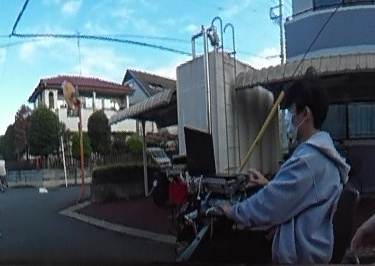person: (223, 73, 345, 266)
